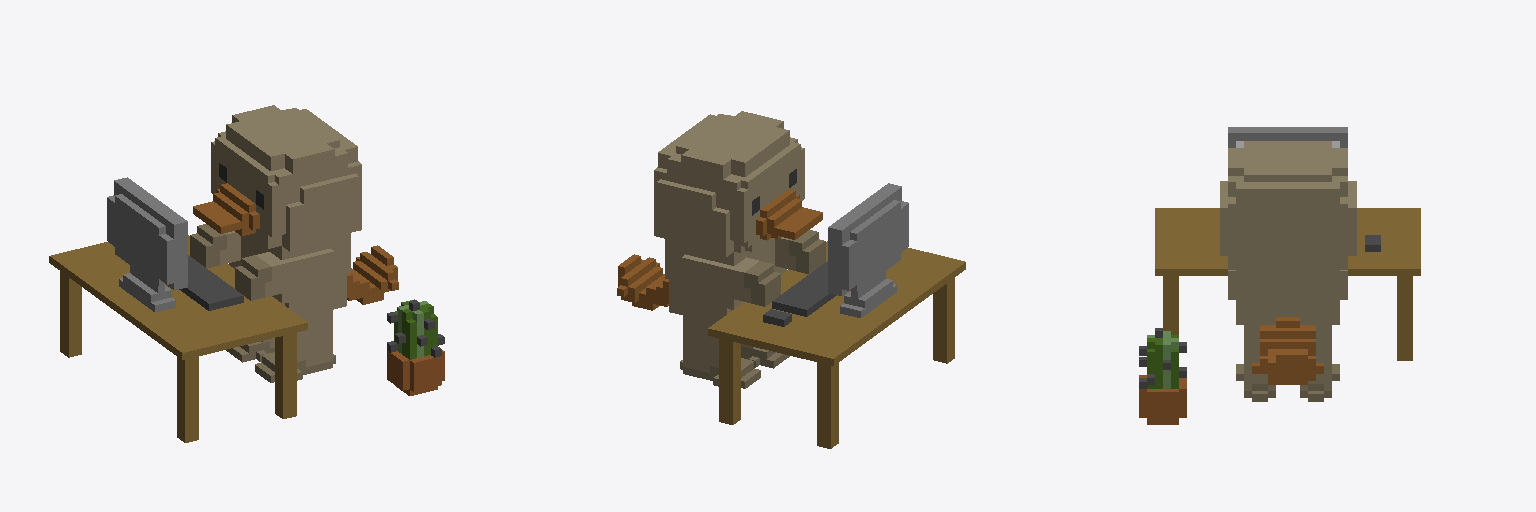
3 views of the same model, side by side, from view 1: azimuth 30°, elevation 25°; view 2: azimuth 150°, elevation 25°; view 3: azimuth 270°, elevation 25° (orthographic).
Parts seen in each view (by area): view 1: object 1; view 2: object 1; view 3: object 1.
Boxes of the visible parts, x1,y1,x2,y2 form: object 1: [49, 105, 444, 442]; object 1: [617, 111, 965, 448]; object 1: [1139, 127, 1420, 424].
Bounding box in the file's own units: 3.9 × 3.1 × 3.5.
1 materials, 1 textured.